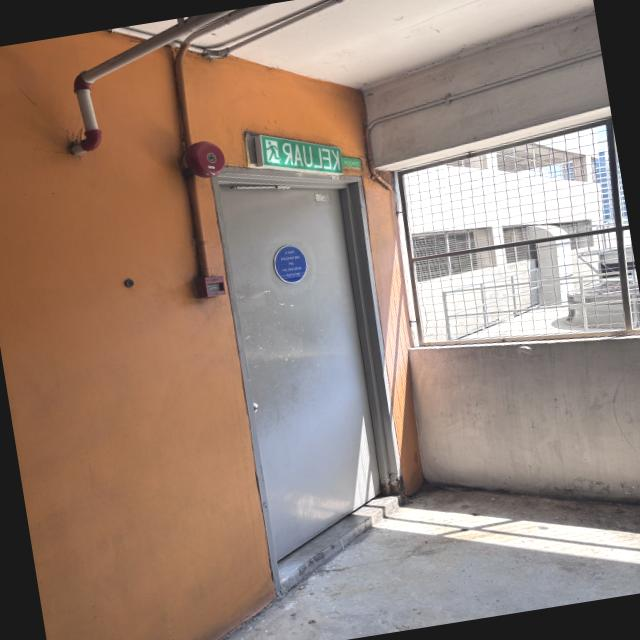door: (210, 164, 407, 600)
